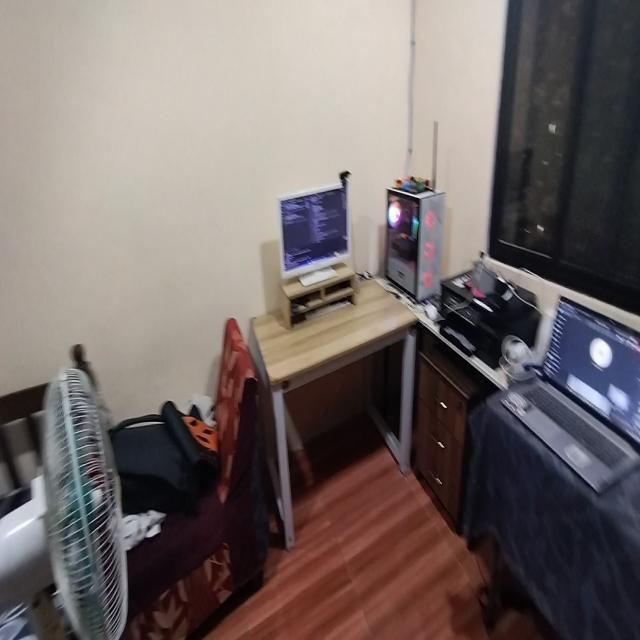table: (248, 273, 418, 517)
